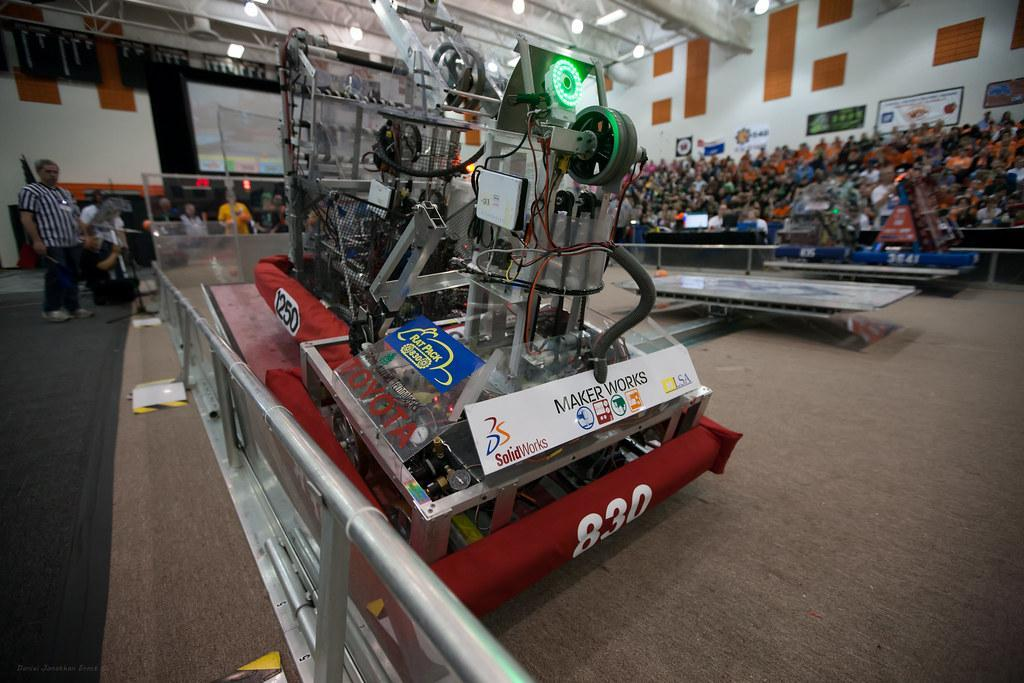robot: (259, 27, 742, 653), (250, 0, 542, 375), (847, 170, 981, 273), (775, 176, 856, 269)
